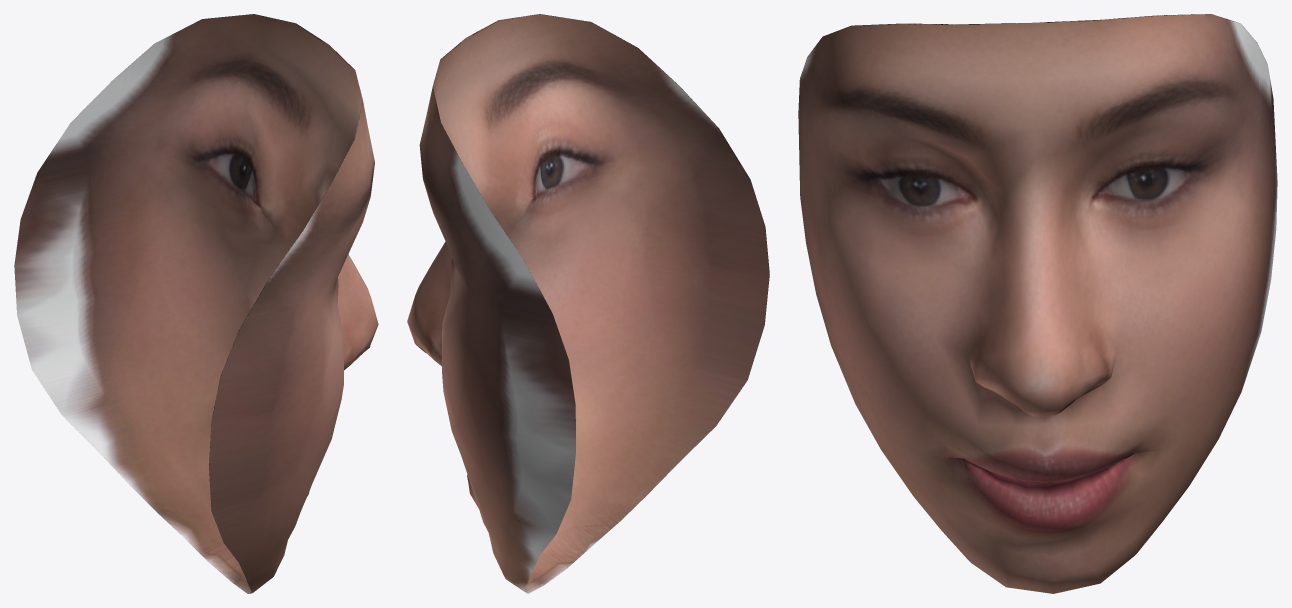
File: tiktok_beauty.glb
3 renders of one model, left to right at view 1: azimuth 30°, elevation 25°; view 2: azimuth 150°, elevation 25°; view 3: azimuth 270°, elevation 25°, orthographic. The views are drawn at different scales.
Parts seen in each view (by area): view 1: tiktok_beauty; view 2: tiktok_beauty; view 3: tiktok_beauty.
Part boxes in pixels (left/top/right/bottom): tiktok_beauty: left=14, top=14, right=378, bottom=593; tiktok_beauty: left=407, top=14, right=769, bottom=593; tiktok_beauty: left=798, top=14, right=1277, bottom=593.
Size of the model in its own units: 0.4459 by 0.8595 by 0.6006.
Materials: 1 (1 with a texture image).
